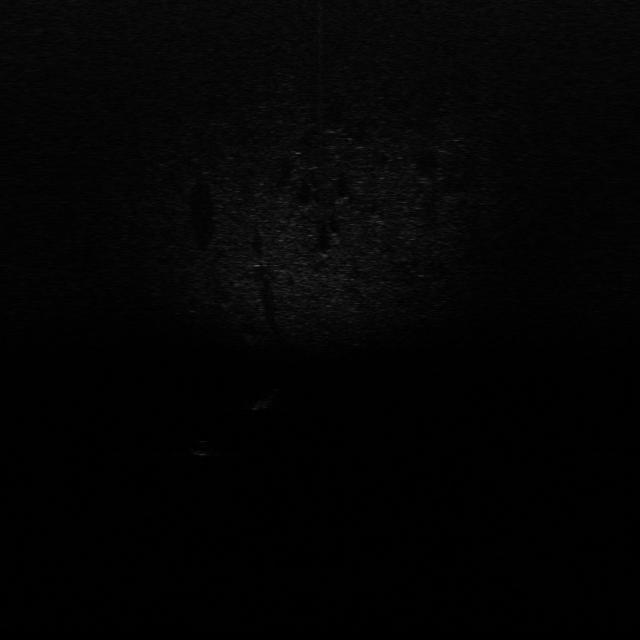ball: (186, 436, 217, 460)
human body: (244, 376, 294, 413)
